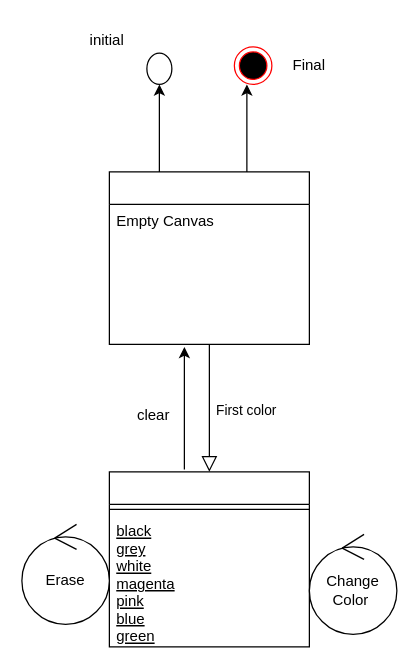
This 419x671 diagram has some shape labels left out. Each missing label, with the box of its shape:
Colored Canvas: (108, 471, 309, 647)
State: (108, 171, 309, 344)
